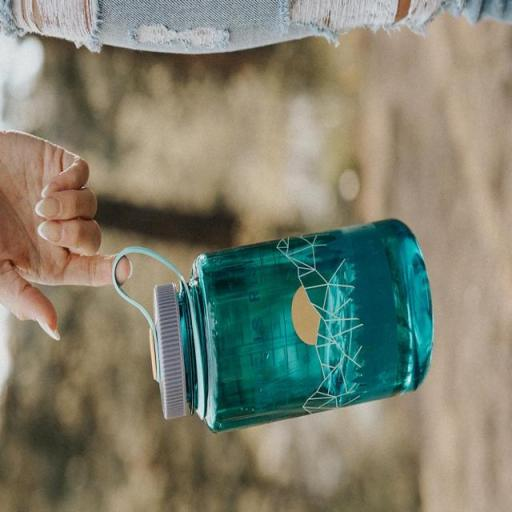bottle: (110, 218, 436, 436)
